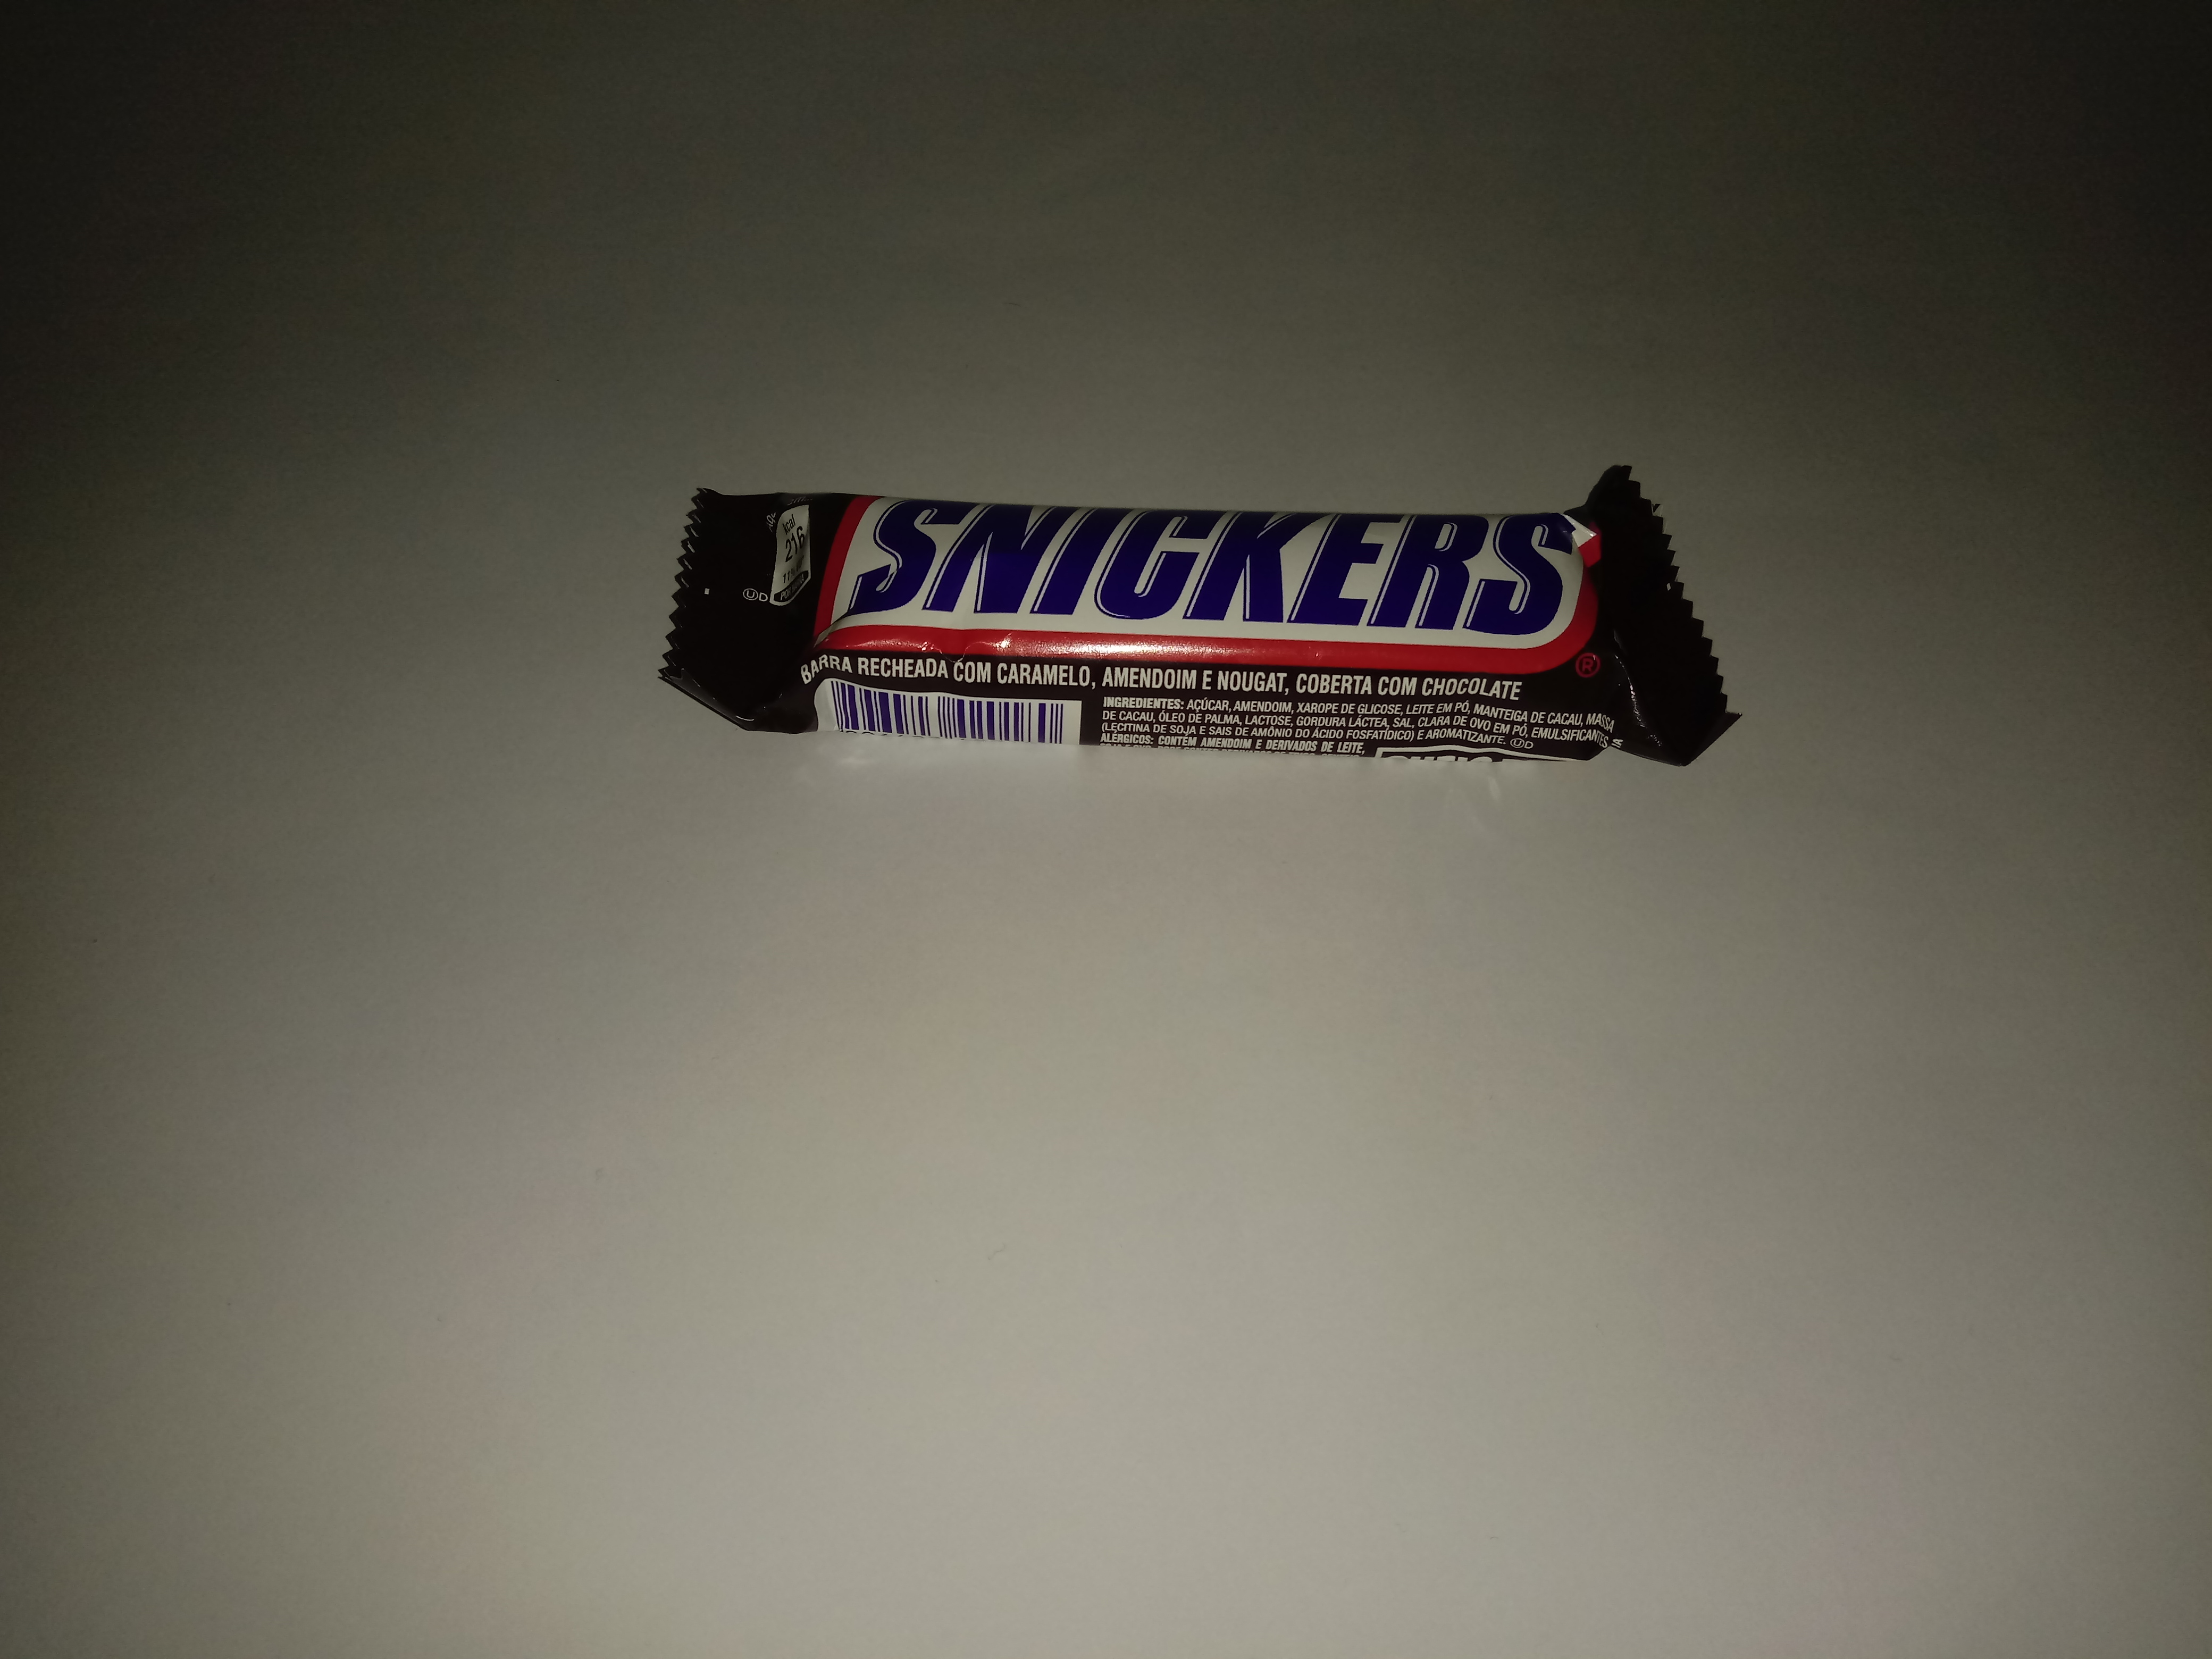snickers: (650, 448, 1770, 798)
